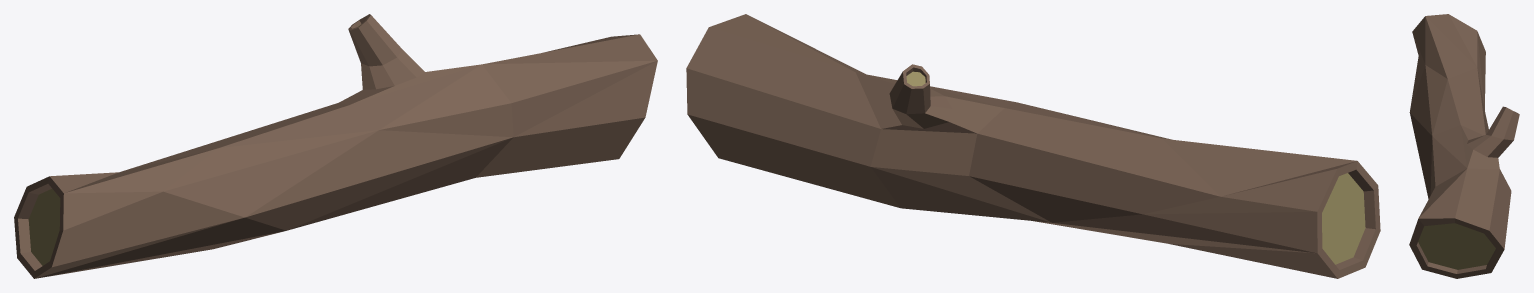
The model's file is log.obj.
3 renders of one model, left to right at view 1: azimuth 30°, elevation 25°; view 2: azimuth 150°, elevation 25°; view 3: azimuth 270°, elevation 25°, orthographic. The views are drawn at different scales.
Visible parts, largest first — view 1: log_Cylinder.010; view 2: log_Cylinder.010; view 3: log_Cylinder.010.
Boxes of the visible parts, x1,y1,x2,y2 form: log_Cylinder.010: (14, 14, 657, 278); log_Cylinder.010: (686, 14, 1380, 278); log_Cylinder.010: (1409, 14, 1519, 278).
Bounding box in the file's own units: 3.23 × 0.7966 × 0.7291.
1 material, 1 textured.
